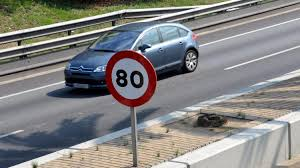Speed_limit_80km: (105, 50, 157, 107)
